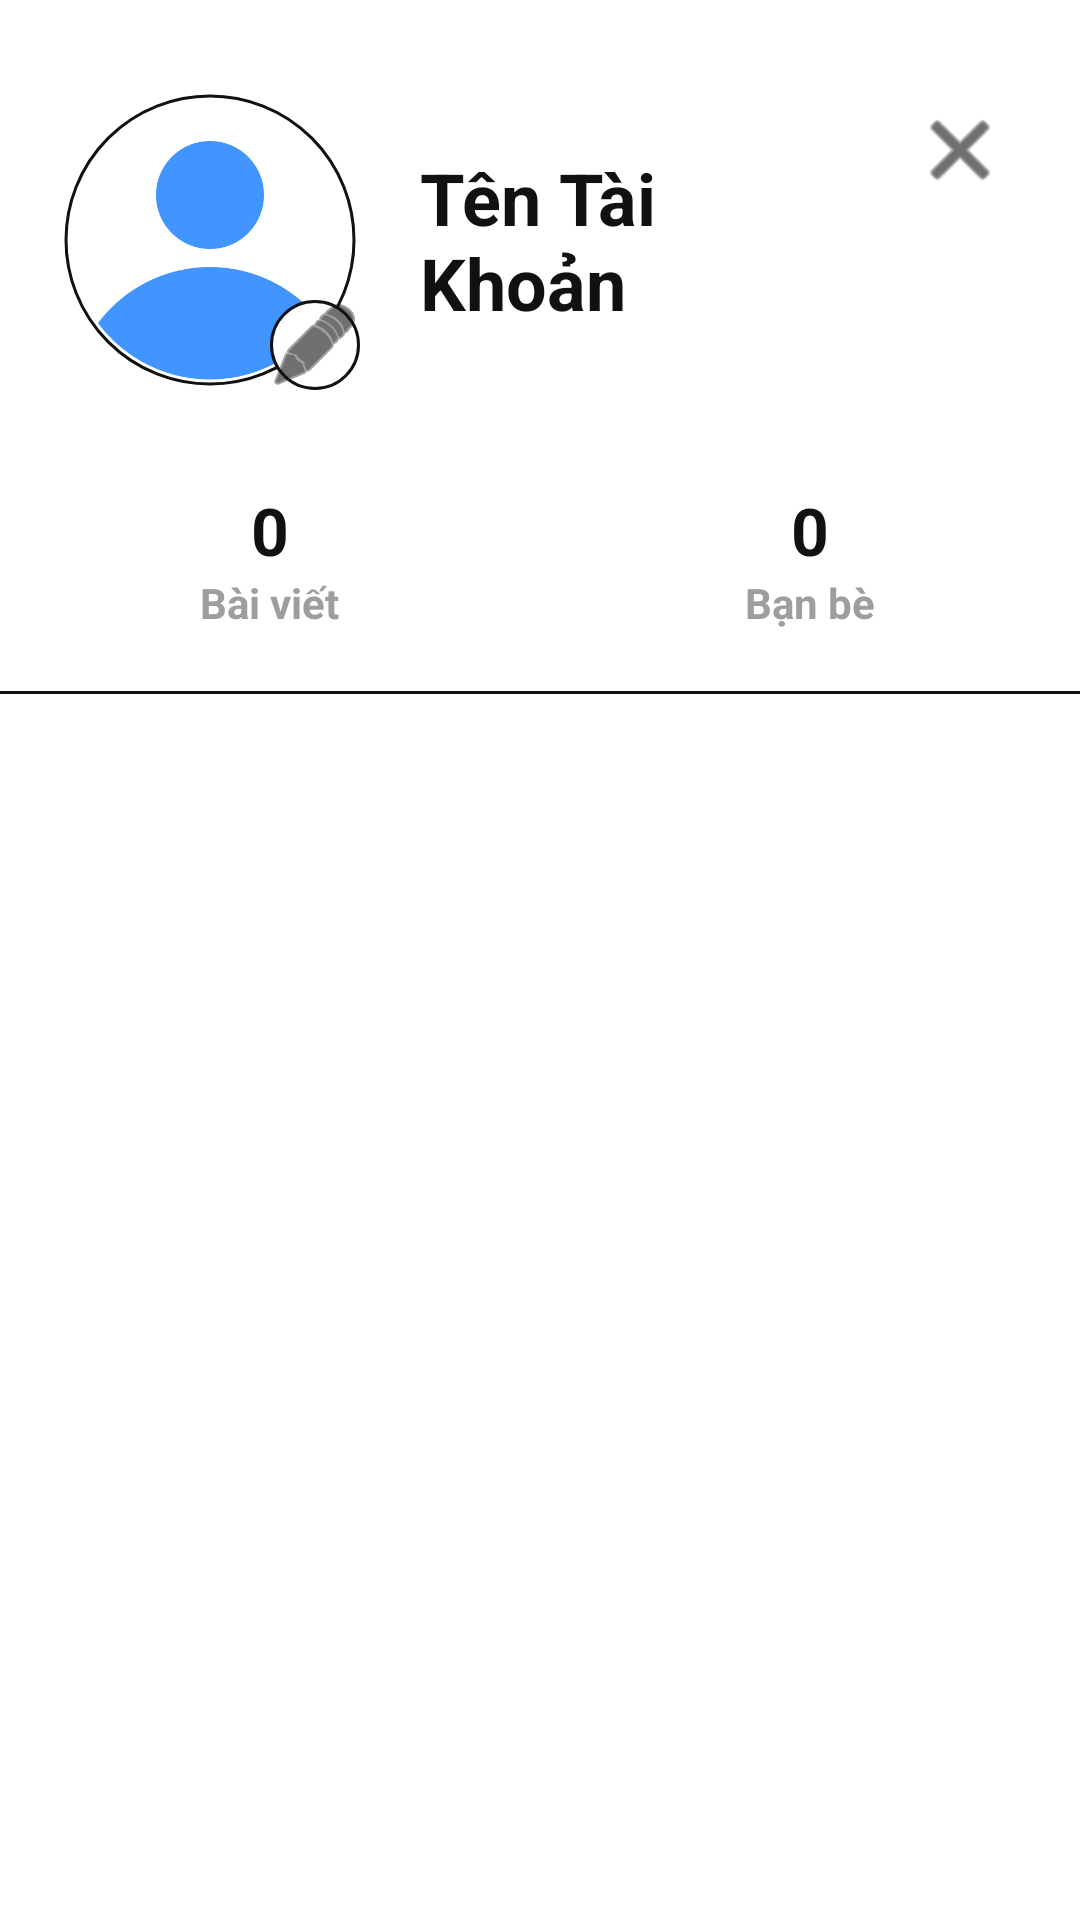

Locate icon controls on the screen. Image size 1080*1920, boxes as [x1, y1, x2, y2].
close clear cancel: [930, 120, 990, 180]
